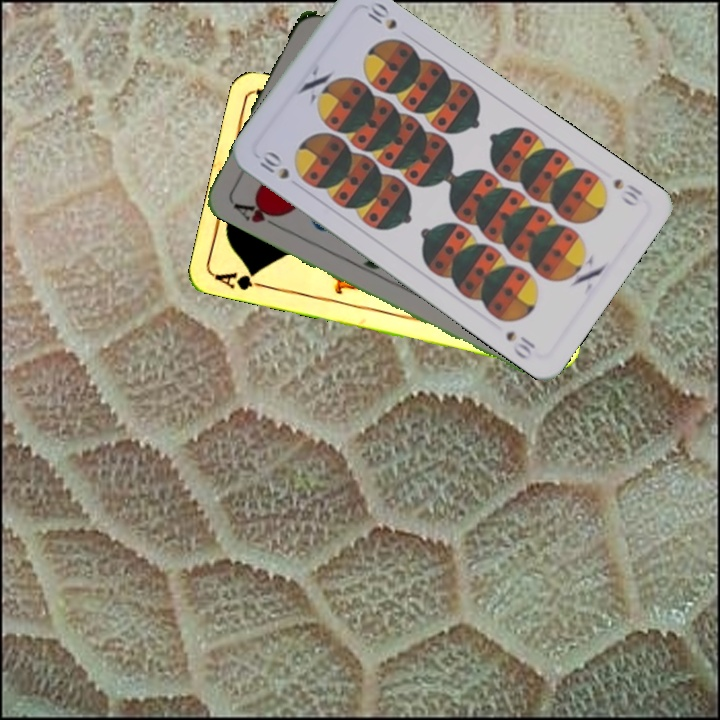GA: (212, 267, 271, 293)
HA: (229, 197, 286, 232)
S10: (255, 147, 292, 182), (609, 174, 646, 209)
